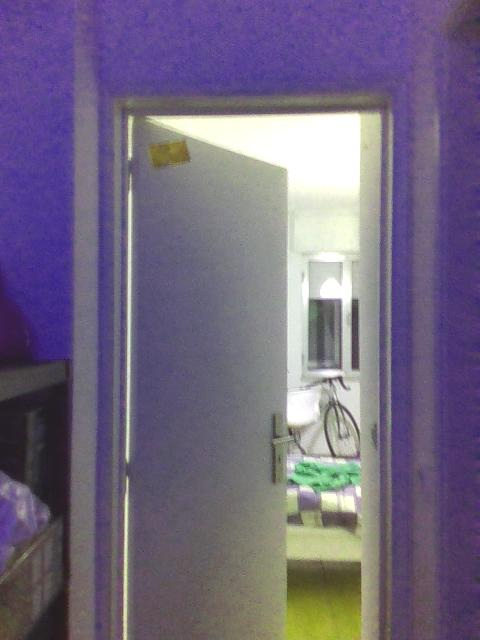semi_door: (99, 77, 409, 639)
